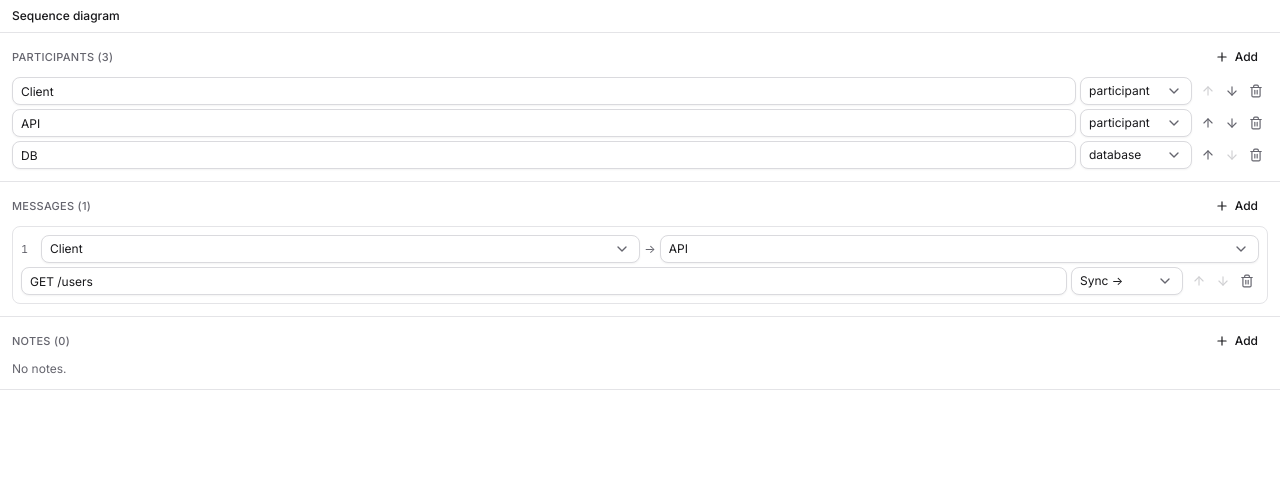
Test: StructuredEditorPanel — sequence diagrams › adds a message between the first two participants and resizes
Click the button with test id "sequence-add-message" at (1236, 206), box [1205,194,1268,218]
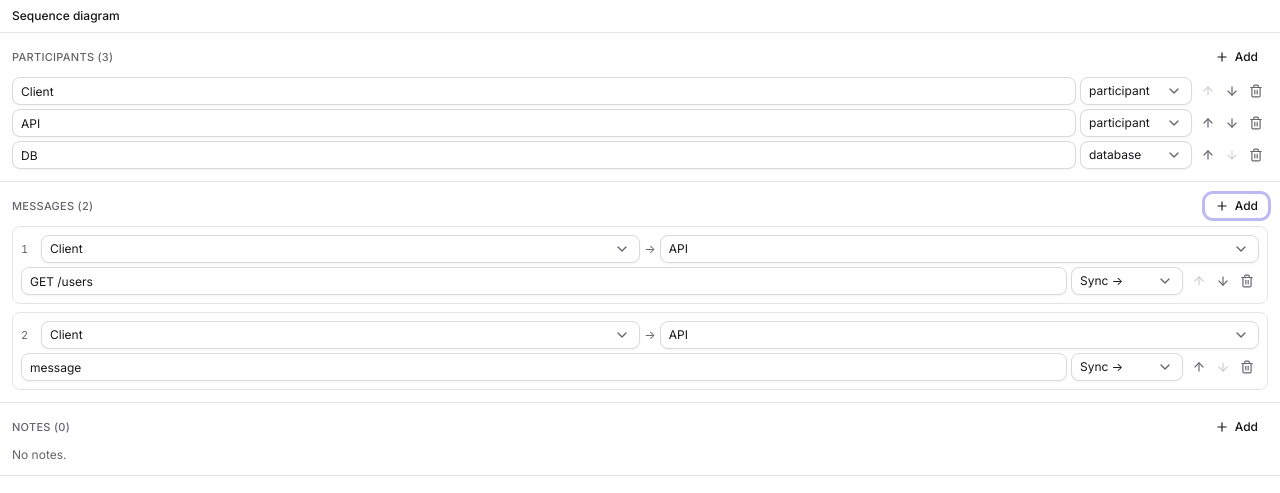
Expected: the number of list items with test id "sequence-message" is 2, [12,226,1268,304]; [12,312,1268,390]
